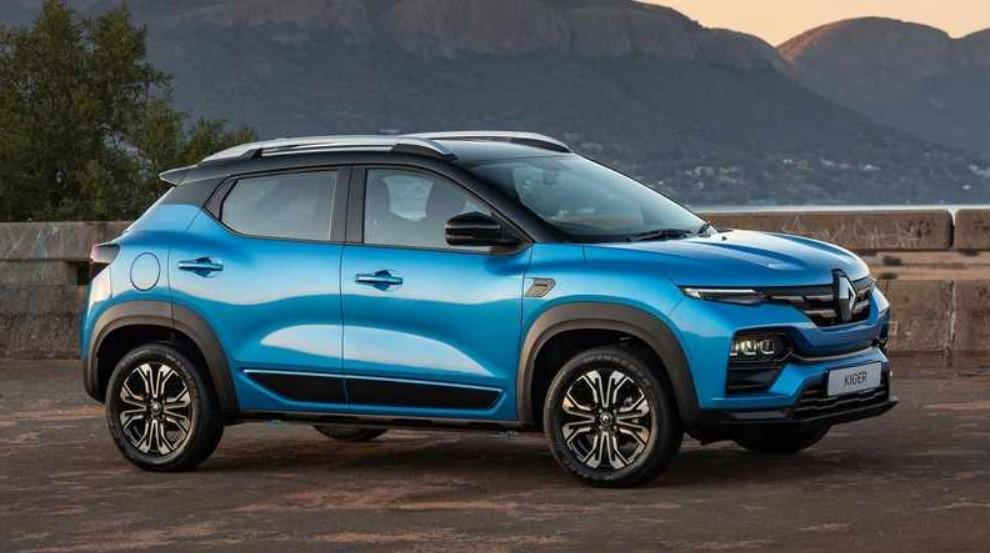Renault: (833, 272, 860, 325)
